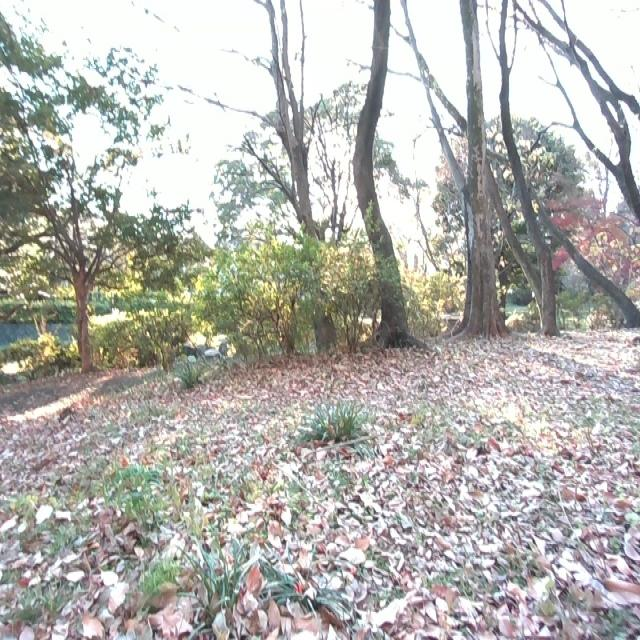bush: (187, 227, 438, 357), (94, 306, 192, 370), (300, 397, 365, 447), (0, 338, 73, 381)
tree: (417, 0, 570, 332), (506, 1, 640, 334), (395, 0, 516, 347), (348, 1, 427, 354), (233, 2, 341, 234), (38, 142, 132, 385)
